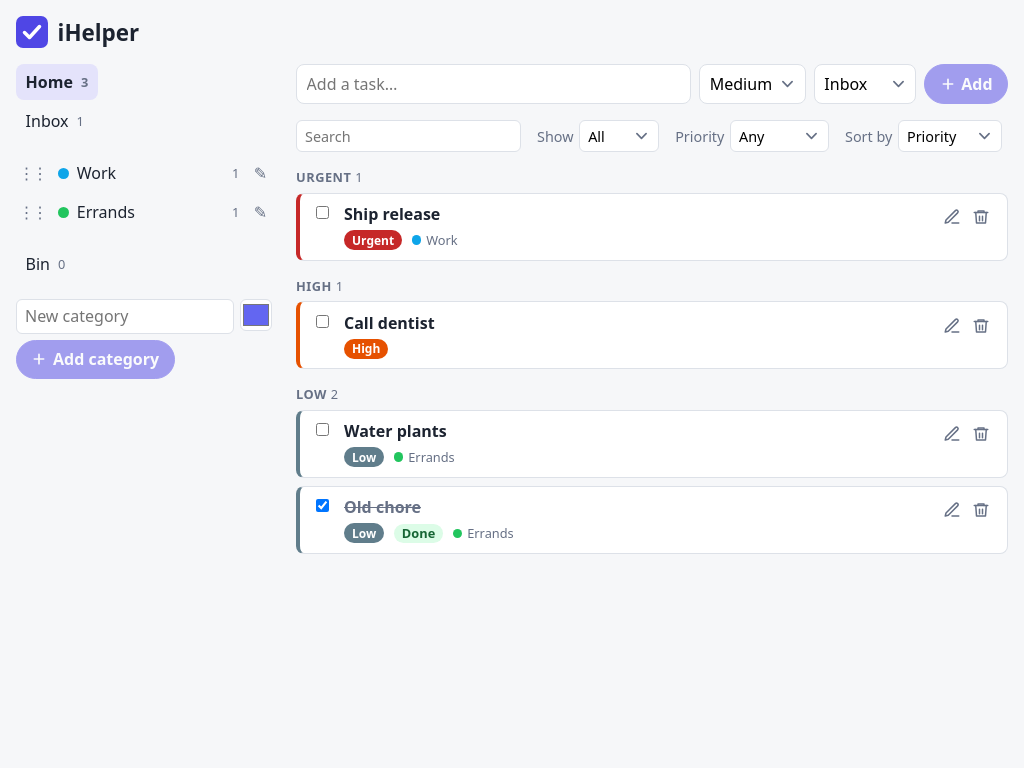
App › adds a task with a client-generated id and shows it
The image size is (1024, 768).
Expected: the button "Ship release" is shown, [344,203,440,225]
Step 1. Type "Book flights" into the field named "New task title" → x=494, y=84, box [296,64,691,104]
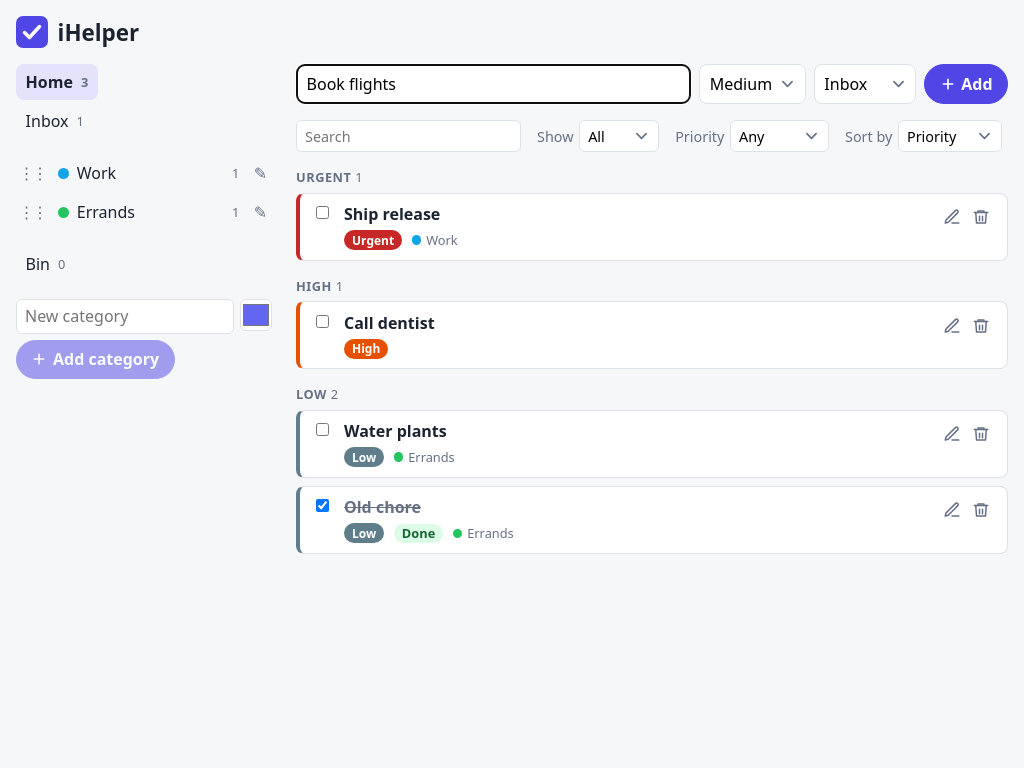
Step 2. Select "High" in the dropdown named "New task priority" → x=752, y=84, box [699,64,806,104]
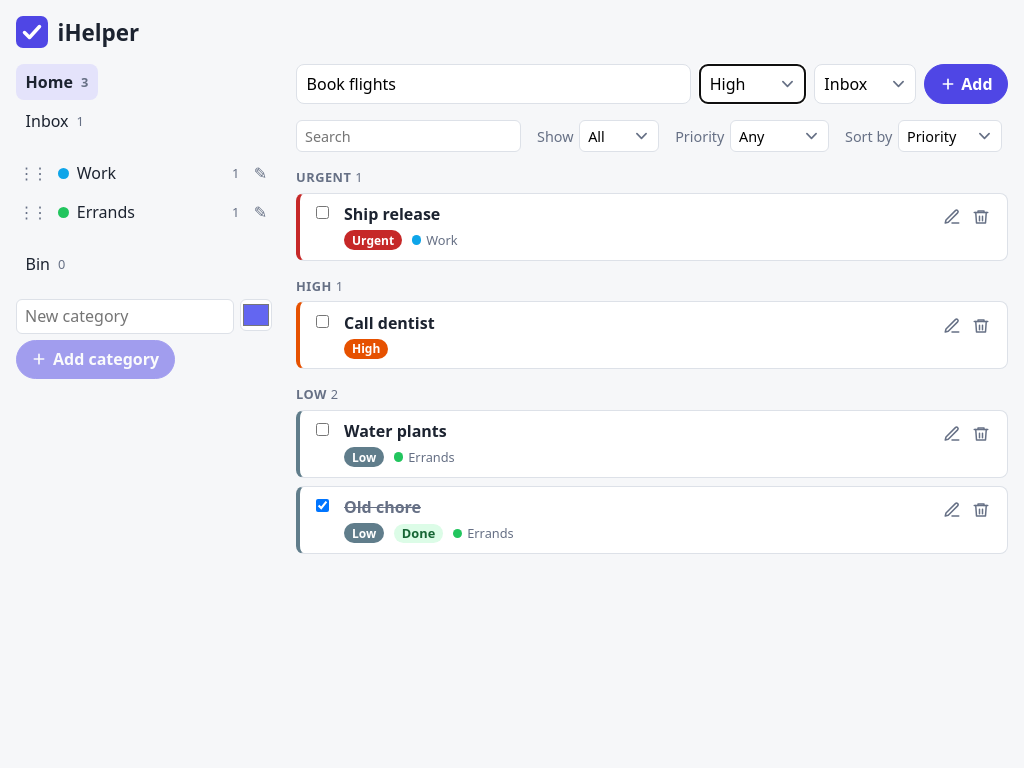
Step 3. Click the button "Add" → x=966, y=84, box [924,64,1008,104]
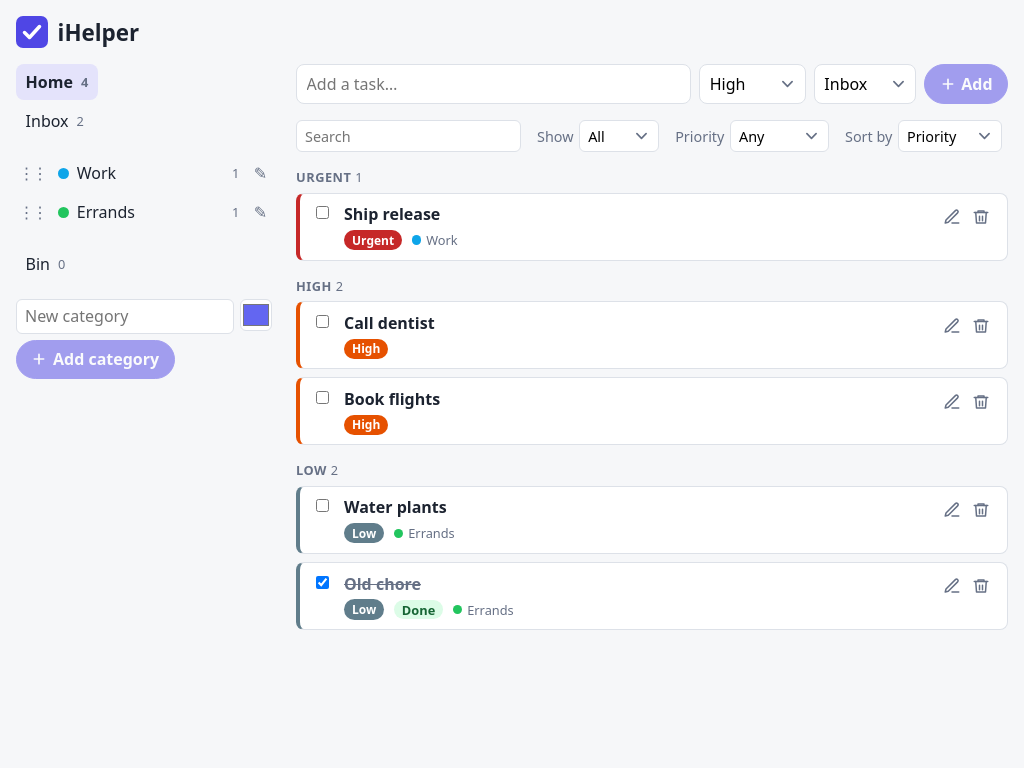
Now the button "Book flights" is shown, box [344,388,440,410]
